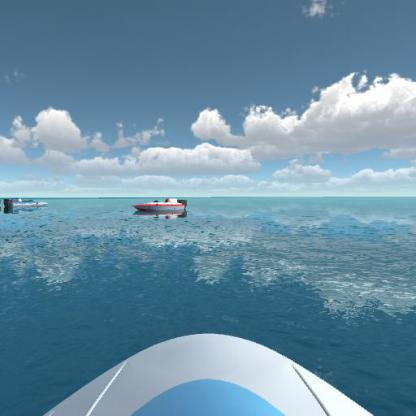usv1: (3, 192, 52, 217)
usv3: (128, 192, 190, 223)
